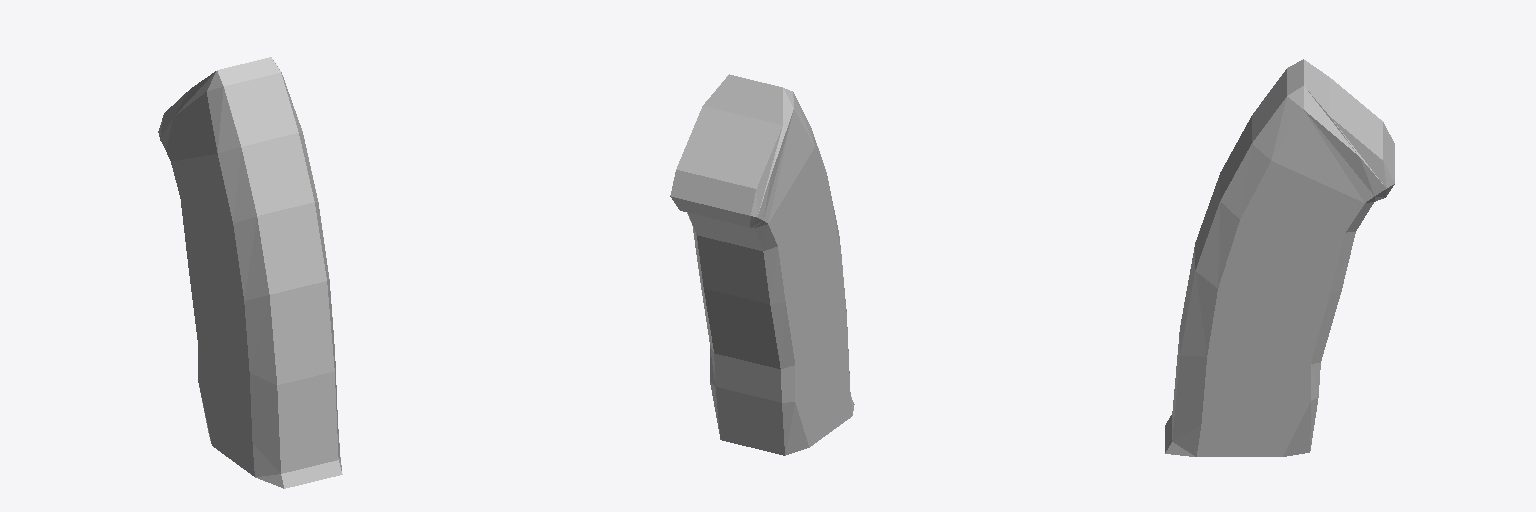
The model's file is Grip.obj.
The picture shows the model from 3 angles: view 1: azimuth 30°, elevation 25°; view 2: azimuth 150°, elevation 25°; view 3: azimuth 270°, elevation 25°; orthographic projection.
Visible parts, largest first — view 1: Grip; view 2: Grip; view 3: Grip.
Boxes of the visible parts, x1=… form: Grip: x1=158, y1=57, x2=342, y2=488; Grip: x1=670, y1=74, x2=854, y2=455; Grip: x1=1165, y1=59, x2=1394, y2=456.
Size of the model in its own units: 0.0189 by 0.0778 by 0.0442.